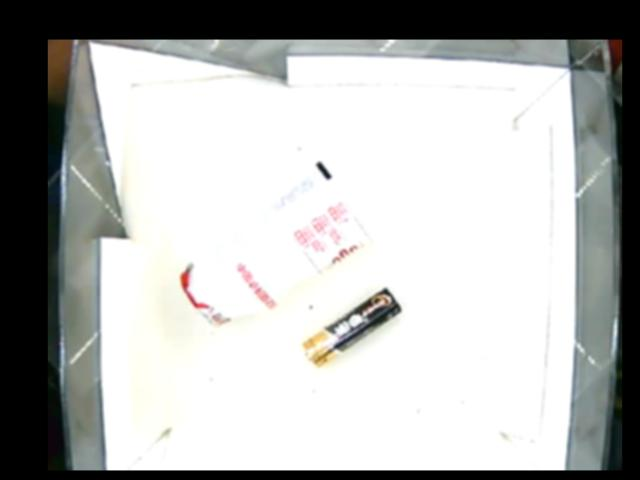Battery: (302, 287, 399, 364)
Bottle: (178, 155, 373, 328)
